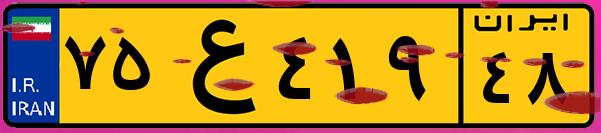1: (330, 28, 385, 110)
4: (270, 28, 330, 110), (475, 38, 525, 113)
5: (110, 28, 158, 98)
7: (57, 26, 110, 100)
8: (525, 38, 570, 115)
9: (385, 28, 445, 110)
ع: (158, 12, 270, 120)
